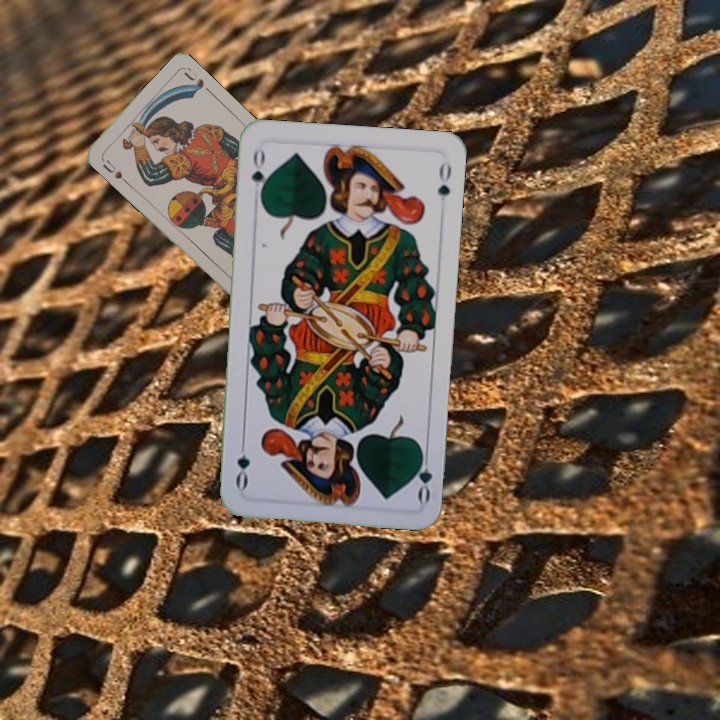GO: (409, 445, 435, 505), (247, 144, 270, 203)
SU: (98, 156, 125, 181)
